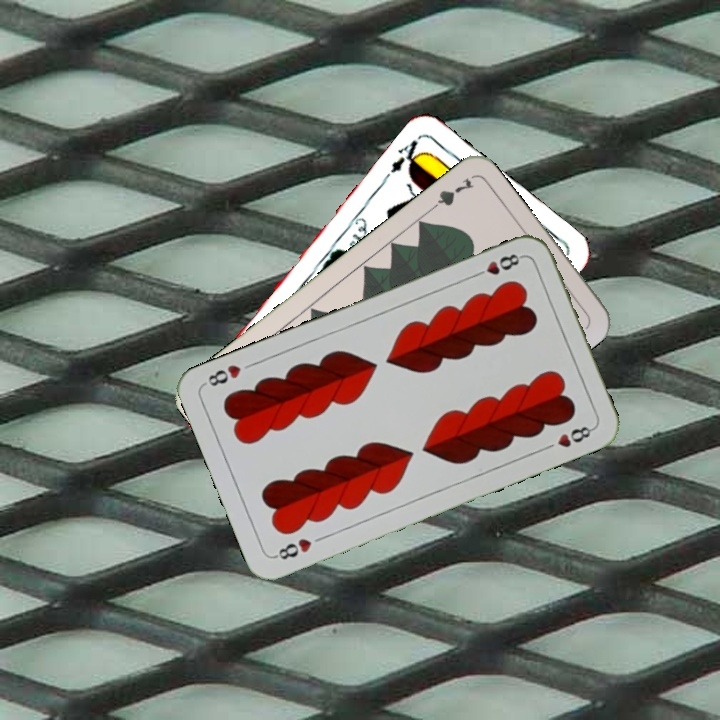EA: (379, 133, 427, 183)
G7: (423, 174, 477, 216)
H8: (469, 249, 526, 280), (270, 534, 315, 563)
